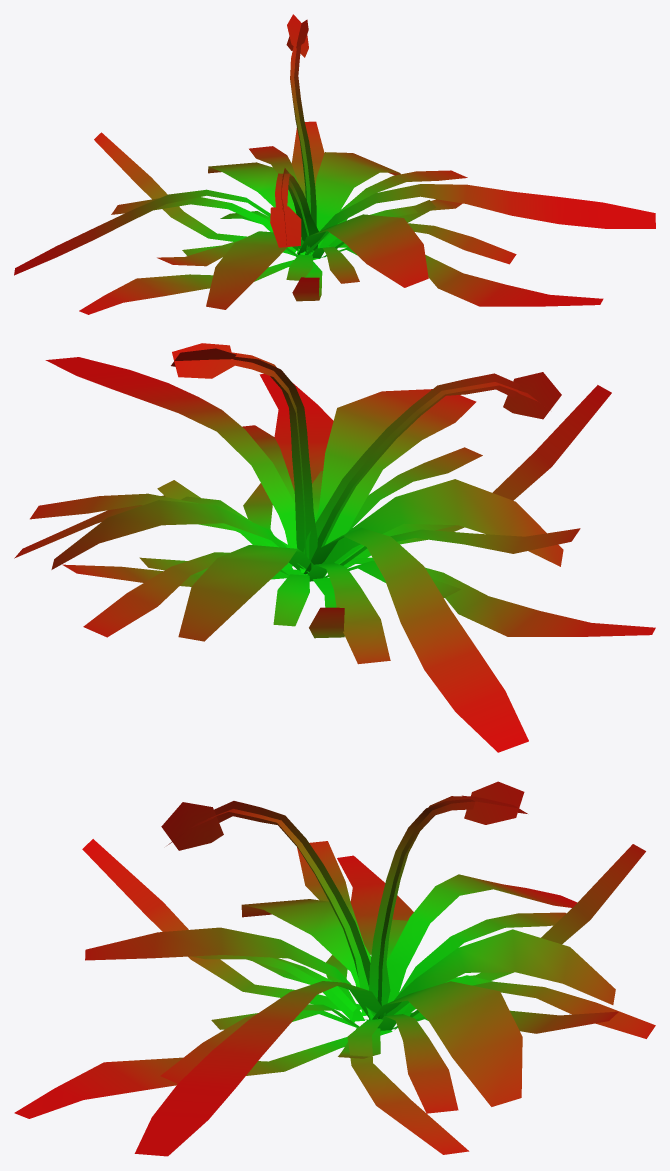
Rendered from Var4_LOD1.fbx.
3 renders of one model, top to bottom at view 1: azimuth 30°, elevation 25°; view 2: azimuth 150°, elevation 25°; view 3: azimuth 270°, elevation 25°, orthographic. The views are drawn at different scales.
Visible parts, largest first — view 1: Var4_LOD1; view 2: Var4_LOD1; view 3: Var4_LOD1.
Part boxes in pixels (<box>): Var4_LOD1: <box>14,14,655,314</box>; Var4_LOD1: <box>14,343,655,752</box>; Var4_LOD1: <box>14,781,655,1156</box>.
Size of the model in its own units: 51.77 by 20.44 by 42.07.
